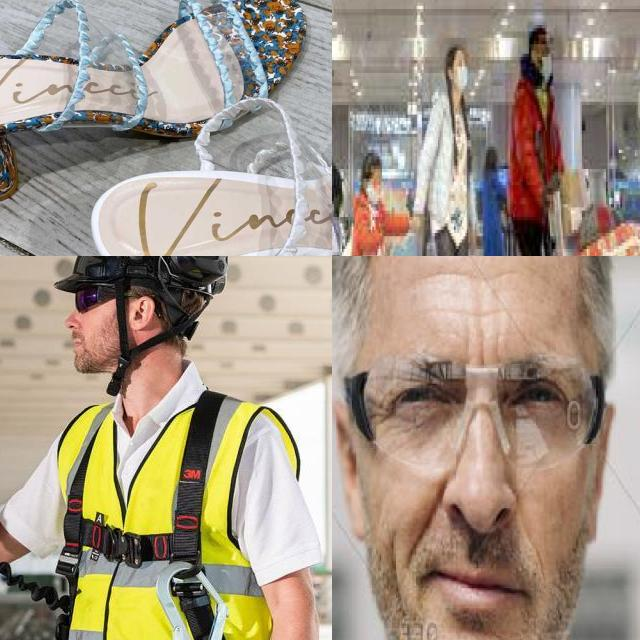Harness: (57, 391, 228, 640)
Sandals: (0, 0, 332, 203), (46, 76, 332, 256)
face_mask: (537, 38, 553, 79), (452, 54, 468, 92), (364, 172, 380, 204)
face_nomask: (380, 367, 575, 633)
glasses: (345, 352, 607, 460)
head_nohelmet: (361, 146, 384, 178), (528, 22, 548, 47), (448, 38, 467, 60)
person: (505, 31, 564, 256), (422, 37, 478, 256), (343, 156, 410, 256)
